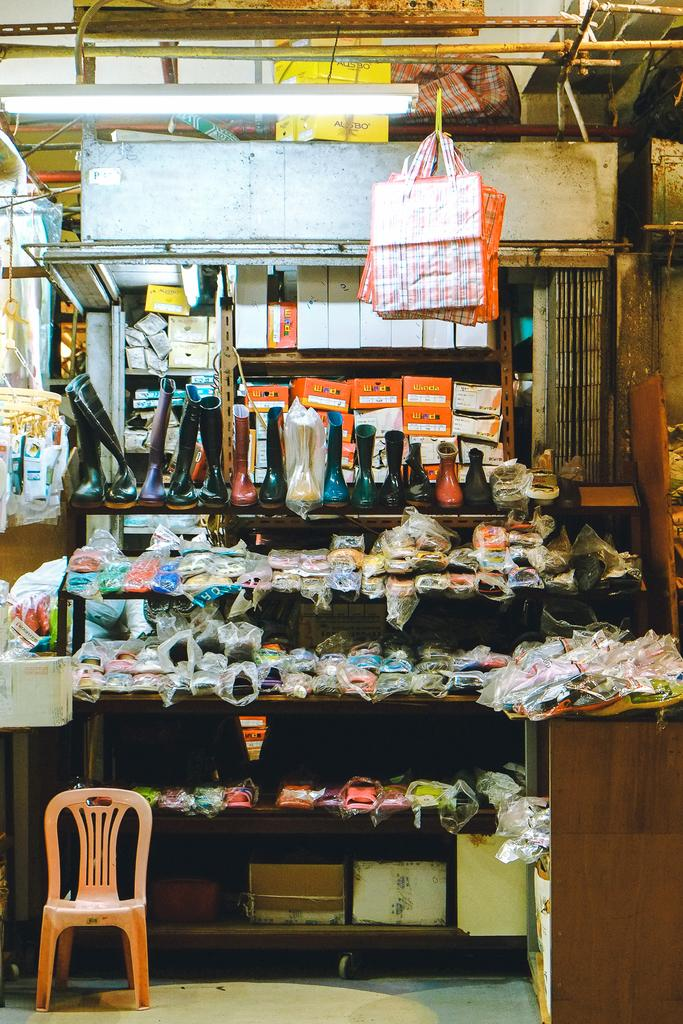Chair: (31, 788, 159, 1021)
